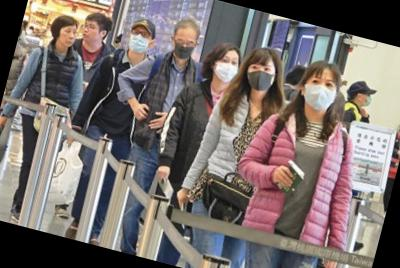with_mask: (301, 73, 341, 115), (243, 59, 278, 96), (211, 51, 242, 86), (126, 26, 153, 56), (169, 37, 198, 64), (359, 91, 375, 108)
without_mask: (57, 25, 79, 50), (79, 21, 99, 45)
